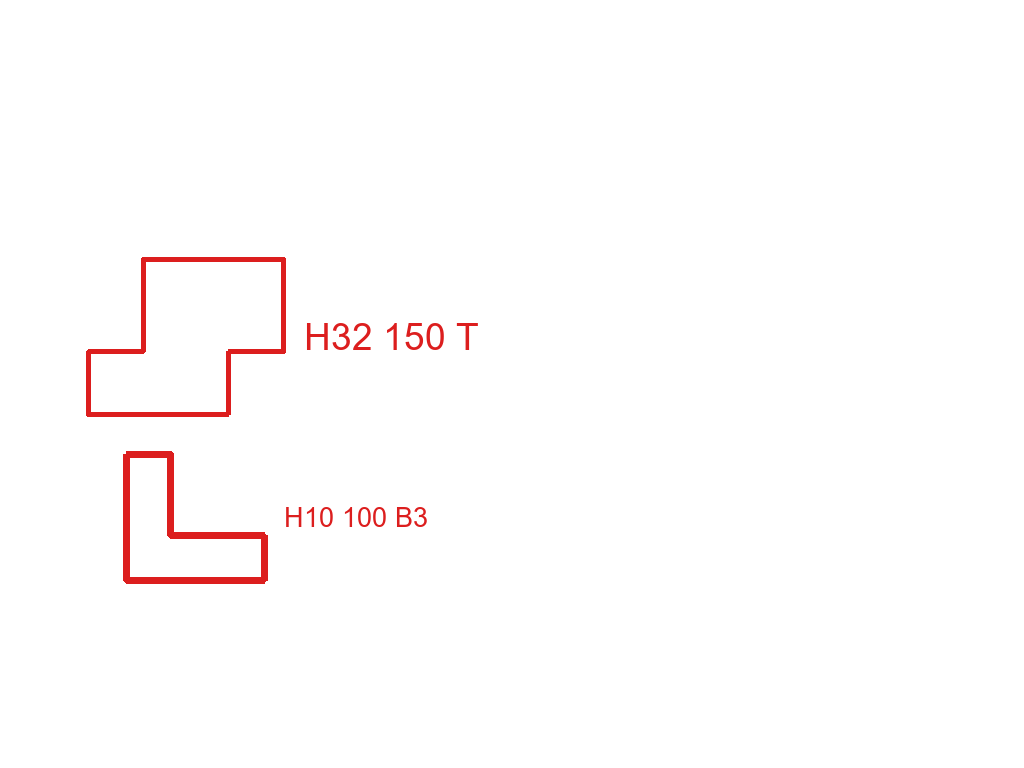shape: (84, 255, 288, 419), (121, 449, 270, 586)
text: (302, 321, 481, 352), (282, 505, 430, 529)
